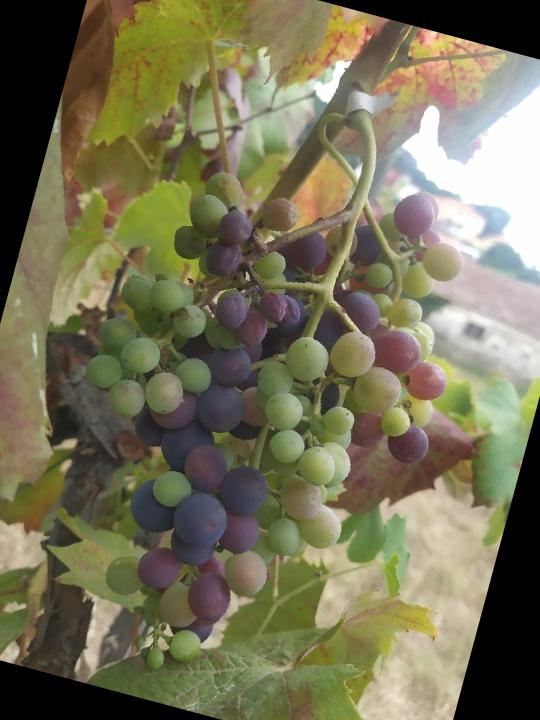grape: (9, 113, 497, 720)
